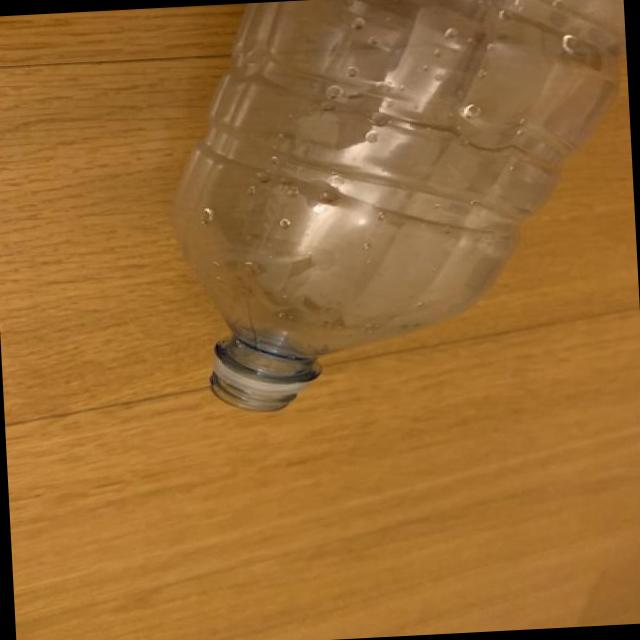plastic_bottle: (166, 0, 640, 418)
